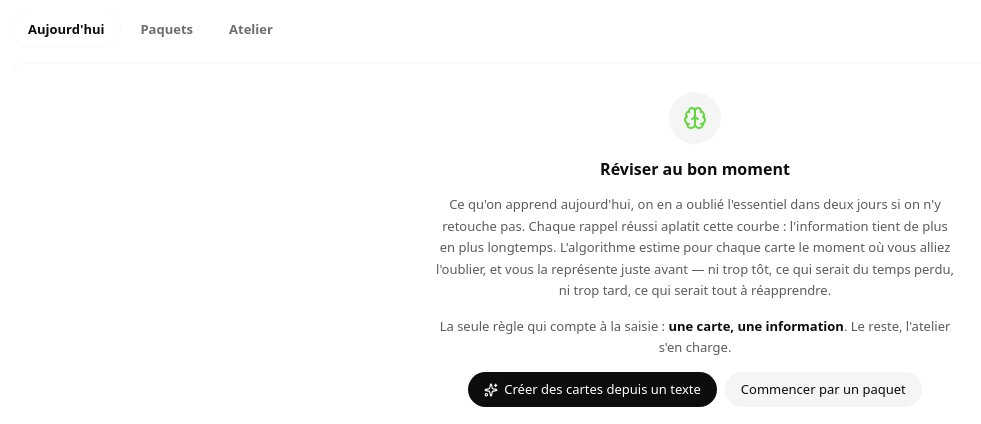
it: Page Révisions — montage › rend l'atelier et invite à créer un paquet quand il n'y en a aucun
Click the button "Atelier" at coordinates (251, 29), box [213, 12, 289, 46]
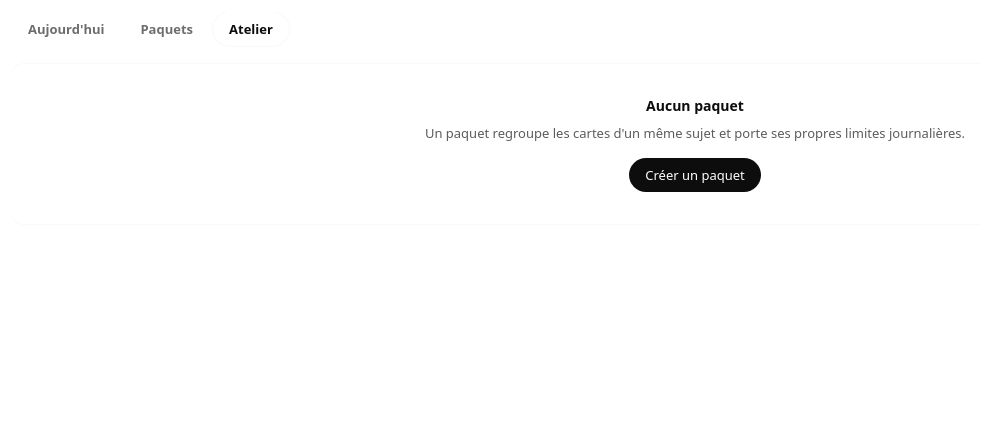
Check: the button "Créer un paquet" is shown, box [629, 158, 761, 192]
